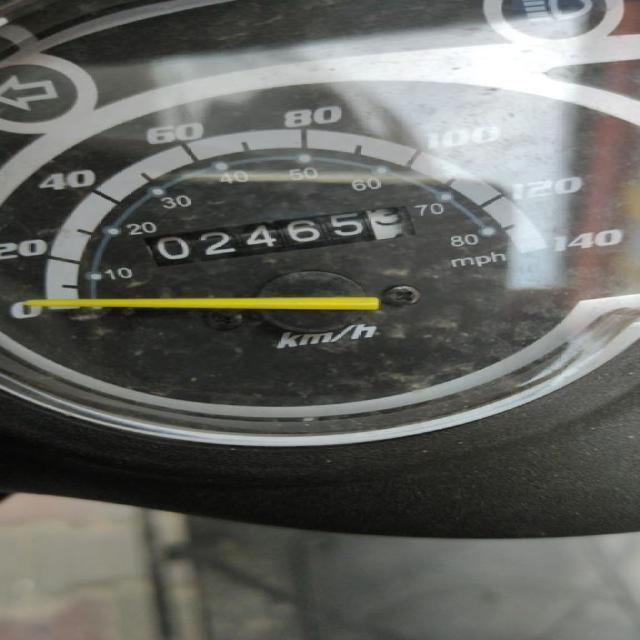odometer: (129, 196, 427, 268)
